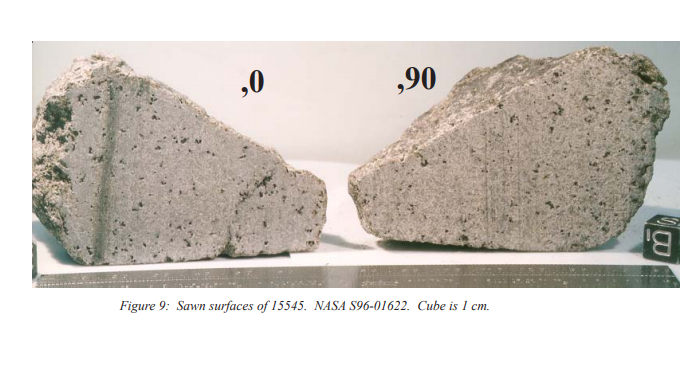Basalt: (39, 42, 325, 274), (364, 53, 638, 241)
